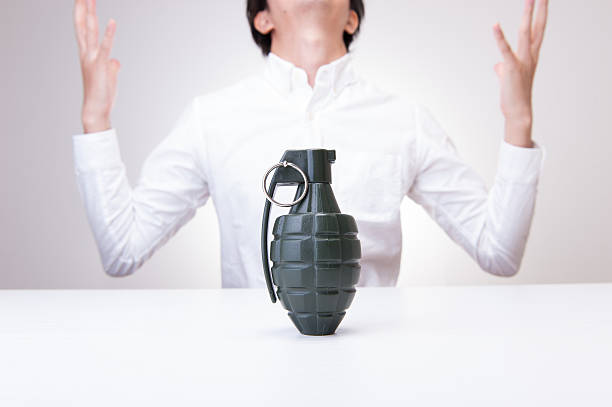e1: (257, 152, 366, 336)
